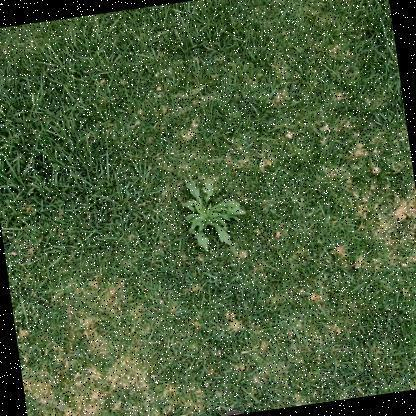Weeds: (177, 169, 251, 254)
